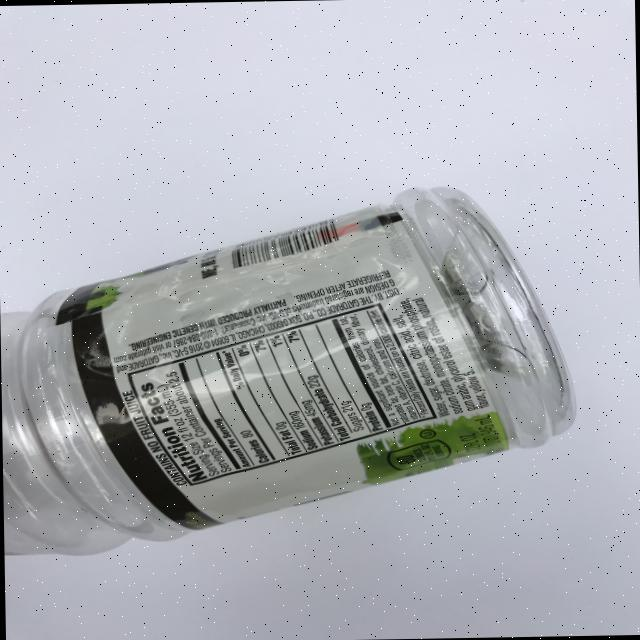plastic: (0, 182, 579, 557)
